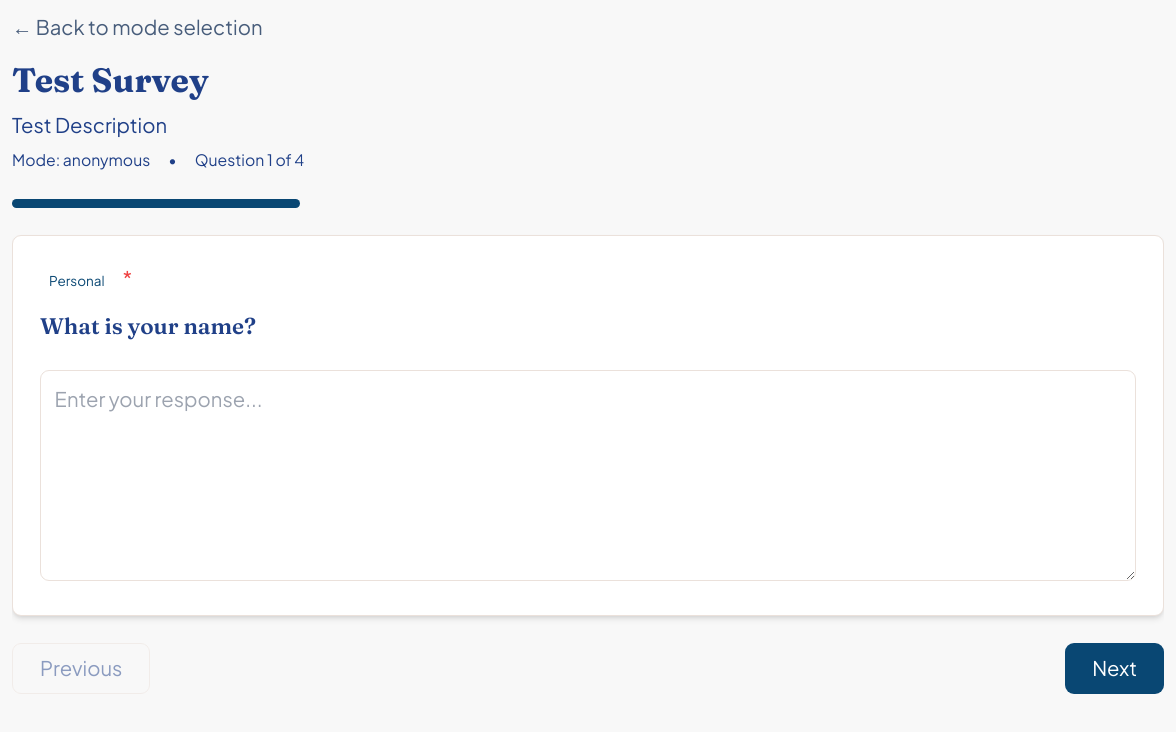
Test: SurveyForm › Question Navigation › should show Submit button on last question
The width and height of the screenshot is (1176, 732).
Note: Navigate to last question
Type "Answer" into the text box with placeholder "Enter your response...".
click(588, 475); type("Answer")  # box [40,370,1136,581]
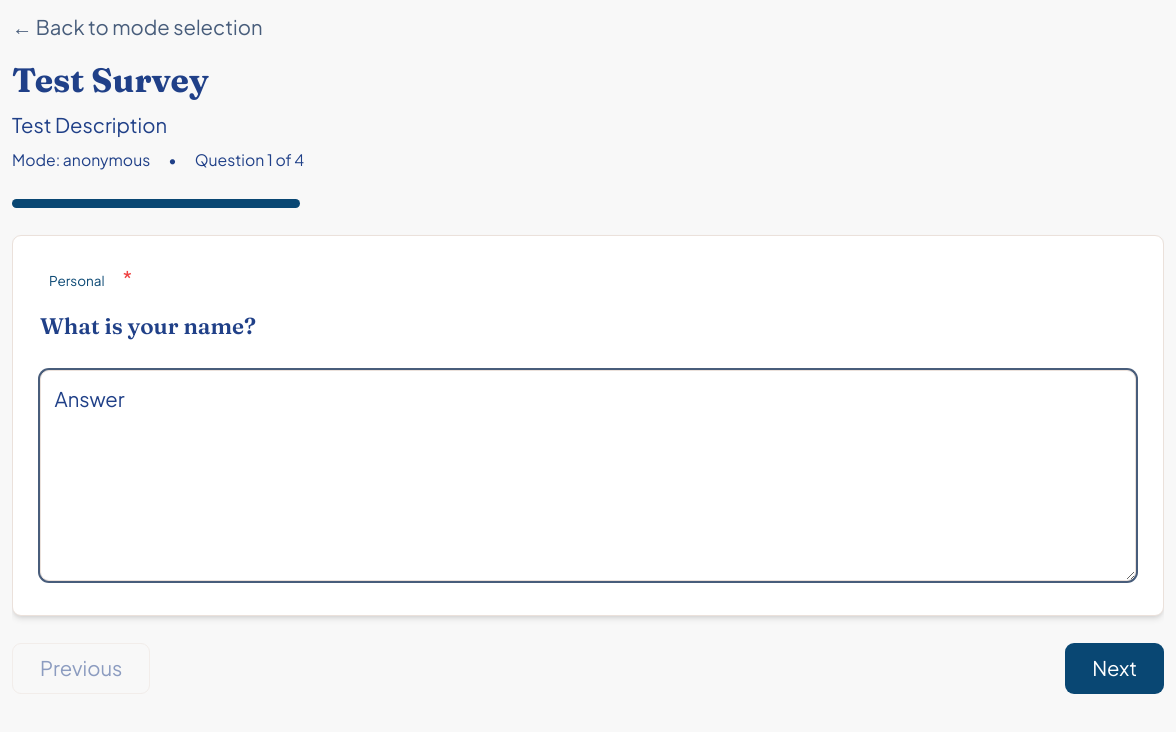
Click the button "Next".
click(1115, 668)  # box [1065,643,1164,694]
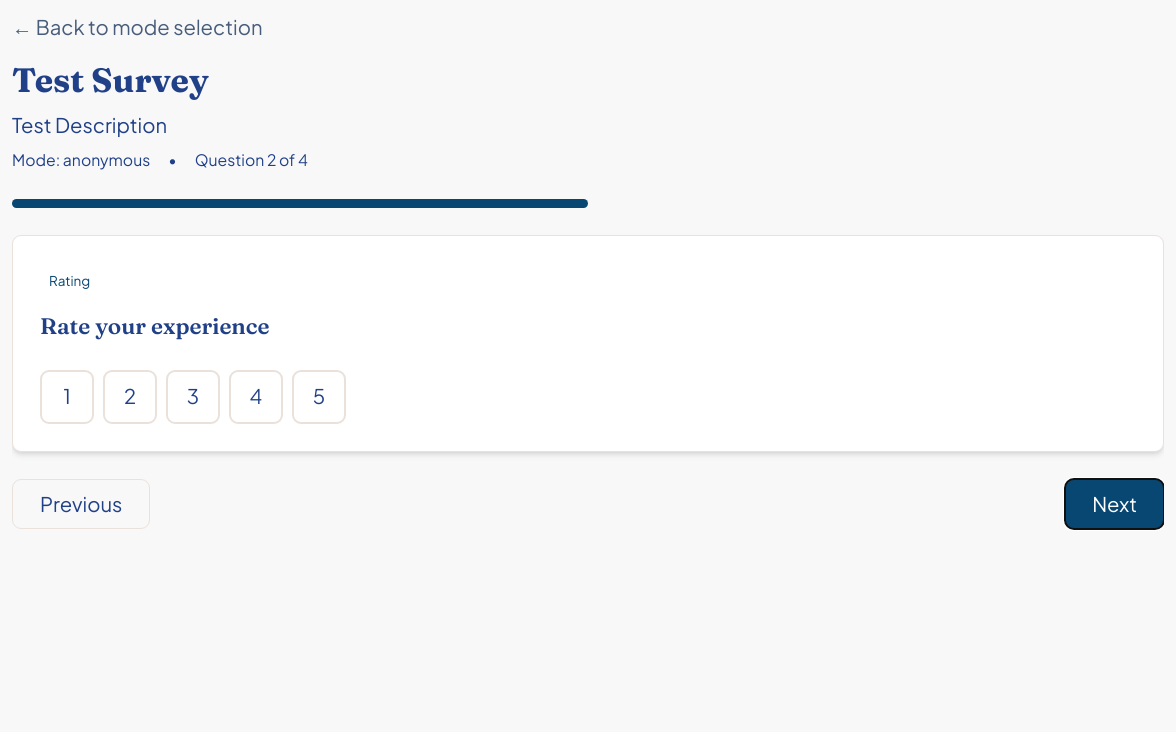
Click the button "Next".
click(1115, 504)  # box [1065,479,1164,529]
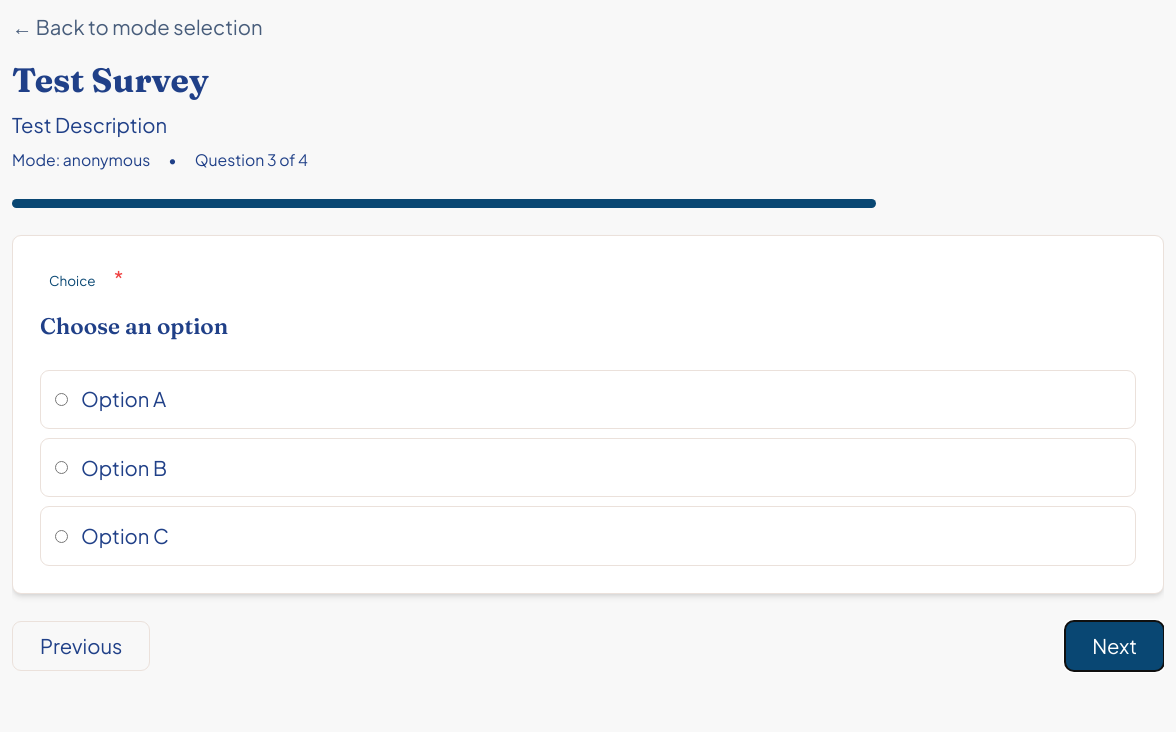
Result: the heading "Choose an option" is shown at [40,312,228,340]
Click the text "Option A".
click(124, 399)  # box [81,384,166,414]
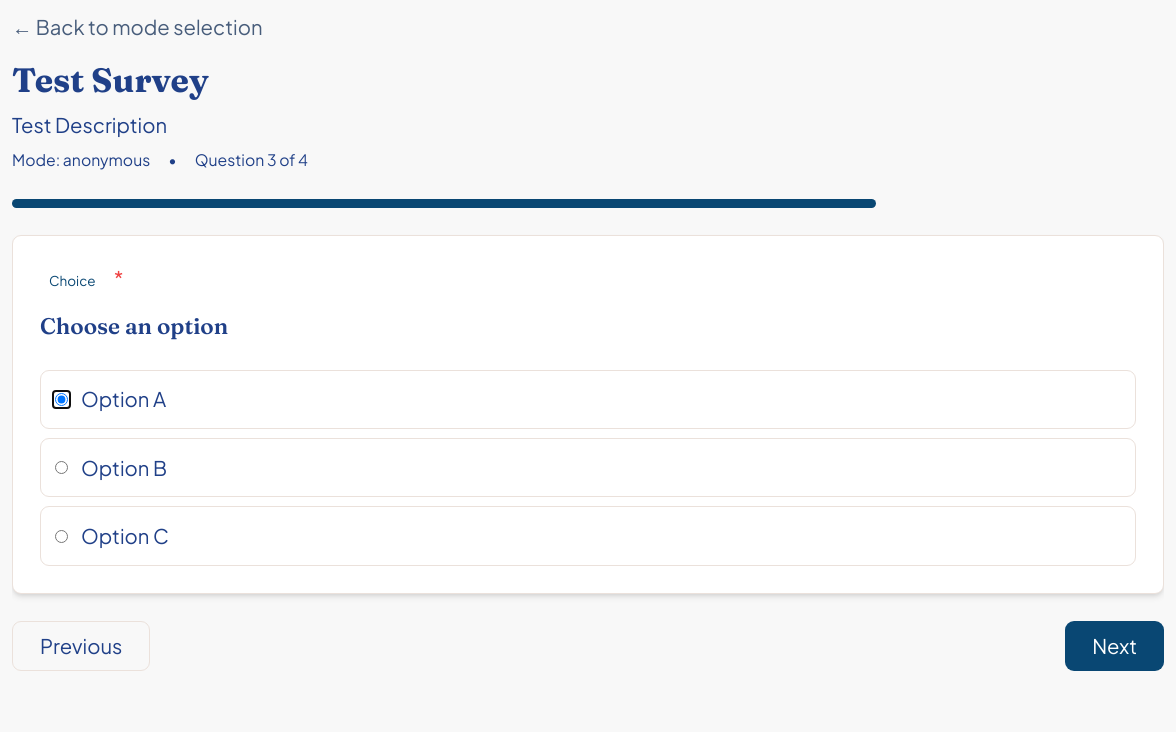
Click the button "Next".
click(1115, 646)  # box [1065,621,1164,671]
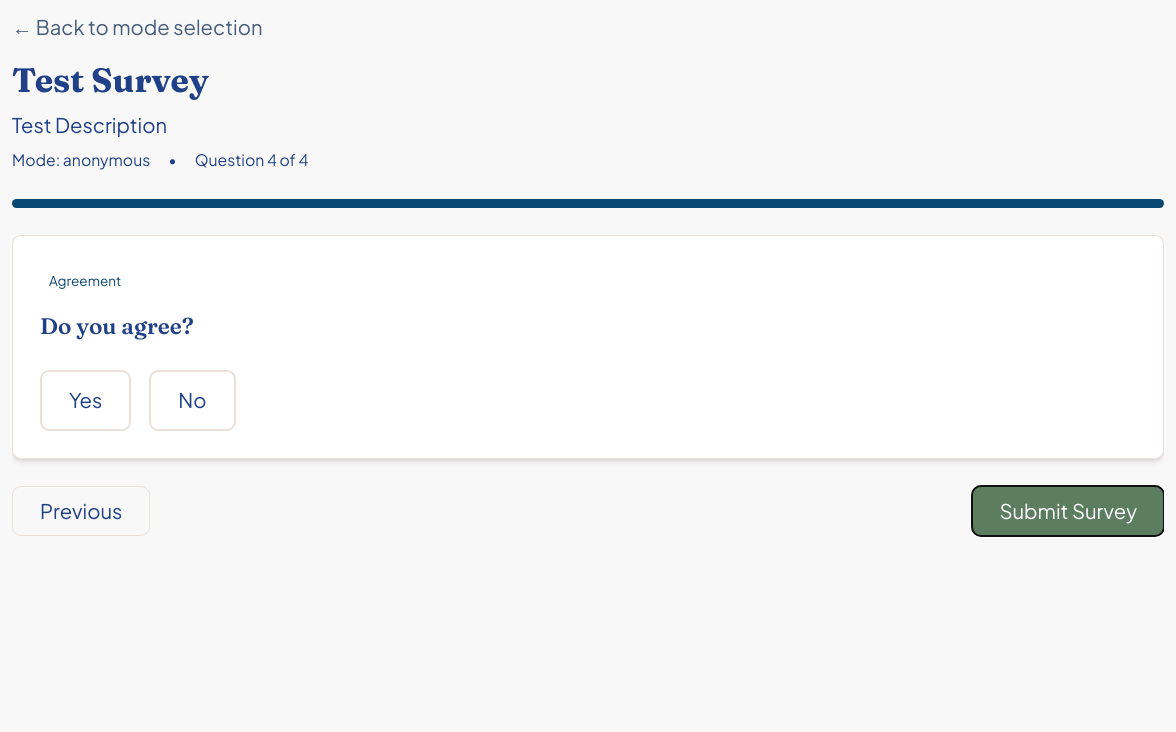
Result: the button "Submit Survey" is shown at [972,486,1164,536]
Result: the button "Next" is gone
